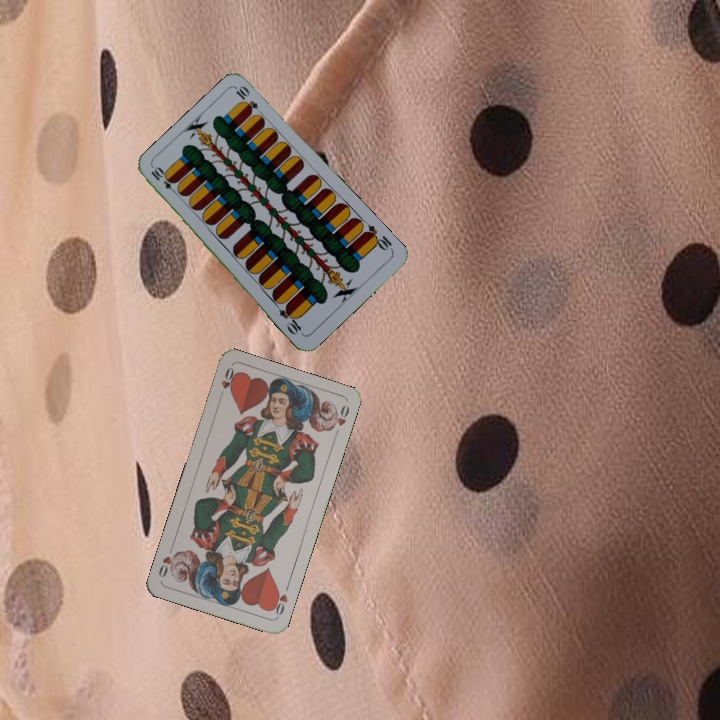E10: (360, 221, 396, 254), (147, 163, 181, 197)
HO: (268, 580, 292, 619), (215, 363, 238, 403)
